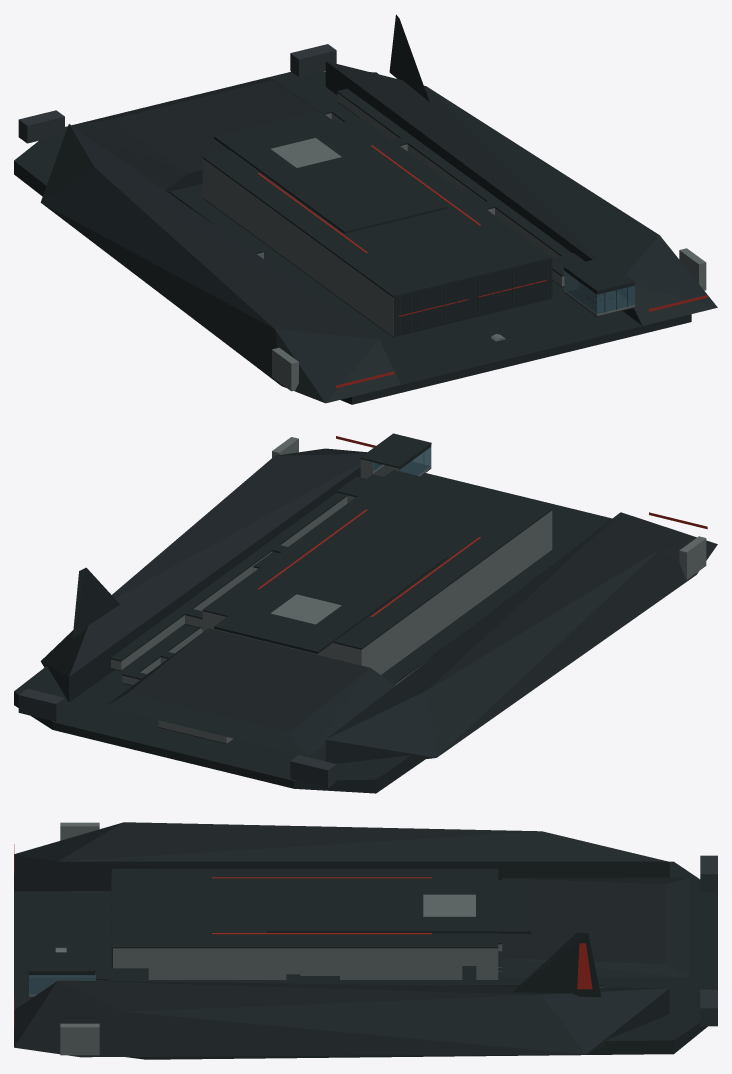
3 renders of one model, top to bottom at view 1: azimuth 30°, elevation 25°; view 2: azimuth 150°, elevation 25°; view 3: azimuth 270°, elevation 25°, orthographic.
Parts seen in each view (by area): view 1: mothership-roof-painted, mothership-side-hull--1-painted, mothership-side-hull-1-painted, mothership-painted, mothership-interior-walls-painted, mothership-door--1-painted, mothership-door-1-painted, mothership-interior-walls-glazing, breakaway-mothership-fin-1-painted; view 2: mothership-roof-painted, mothership-side-hull--1-painted, mothership-side-hull-1-painted, mothership-painted, mothership-interior-walls-painted, breakaway-mothership-fin-1-painted; view 3: mothership-roof-painted, mothership-side-hull-1-painted, mothership-side-hull--1-painted, mothership-painted, mothership-interior-walls-painted, breakaway-mothership-fin-1-painted, mothership-interior-walls-glazing.
Boxes of the visible parts, bbox=[...] form: mothership-roof-painted: bbox=[67, 77, 635, 297]; mothership-side-hull--1-painted: bbox=[40, 124, 400, 403]; mothership-side-hull-1-painted: bbox=[325, 61, 717, 325]; mothership-painted: bbox=[14, 44, 691, 404]; mothership-interior-walls-painted: bbox=[168, 93, 634, 336]; mothership-door--1-painted: bbox=[393, 278, 473, 337]; mothership-door-1-painted: bbox=[473, 259, 552, 317]; mothership-interior-walls-glazing: bbox=[564, 271, 634, 314]; breakaway-mothership-fin-1-painted: bbox=[389, 14, 429, 102]; mothership-roof-painted: bbox=[105, 433, 552, 756]; mothership-side-hull--1-painted: bbox=[325, 512, 717, 763]; mothership-side-hull-1-painted: bbox=[40, 436, 382, 702]; mothership-painted: bbox=[14, 463, 611, 793]; mothership-interior-walls-painted: bbox=[111, 445, 552, 743]; breakaway-mothership-fin-1-painted: bbox=[72, 567, 119, 638]; mothership-roof-painted: bbox=[29, 868, 689, 986]; mothership-side-hull-1-painted: bbox=[14, 980, 669, 1057]; mothership-side-hull--1-painted: bbox=[14, 822, 669, 891]; mothership-painted: bbox=[14, 855, 717, 1059]; mothership-interior-walls-painted: bbox=[28, 944, 604, 996]; breakaway-mothership-fin-1-painted: bbox=[512, 932, 601, 996]; mothership-interior-walls-glazing: bbox=[29, 975, 95, 994].
Bounding box in the file's own units: 1158 × 291 × 1684.
